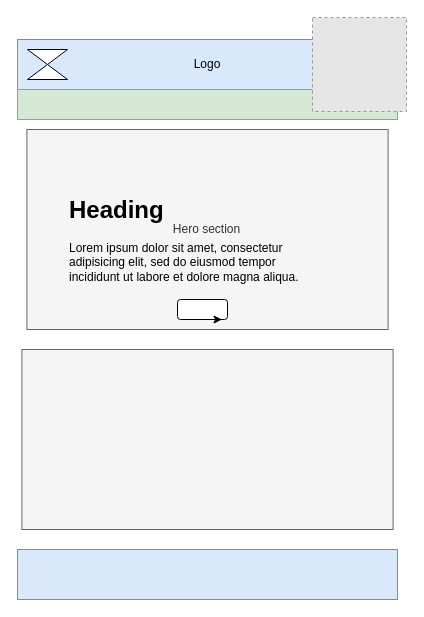
Image size: 424x617. Some labels were removed from this diagram. Grey dashed boxes stand in for pictures. Here are the shapes that lost their labels. From the top down, the centre of each, then its label:
point (207, 439): section 2
point (207, 574): footer
